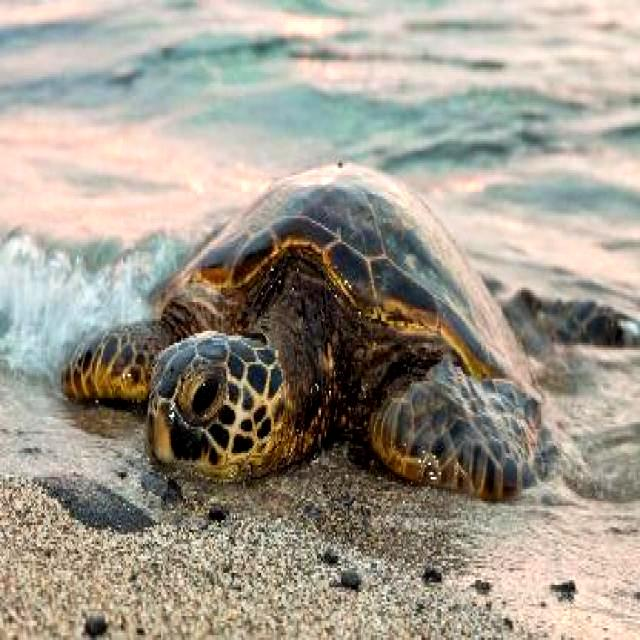Sea turtle: (60, 146, 558, 514)
